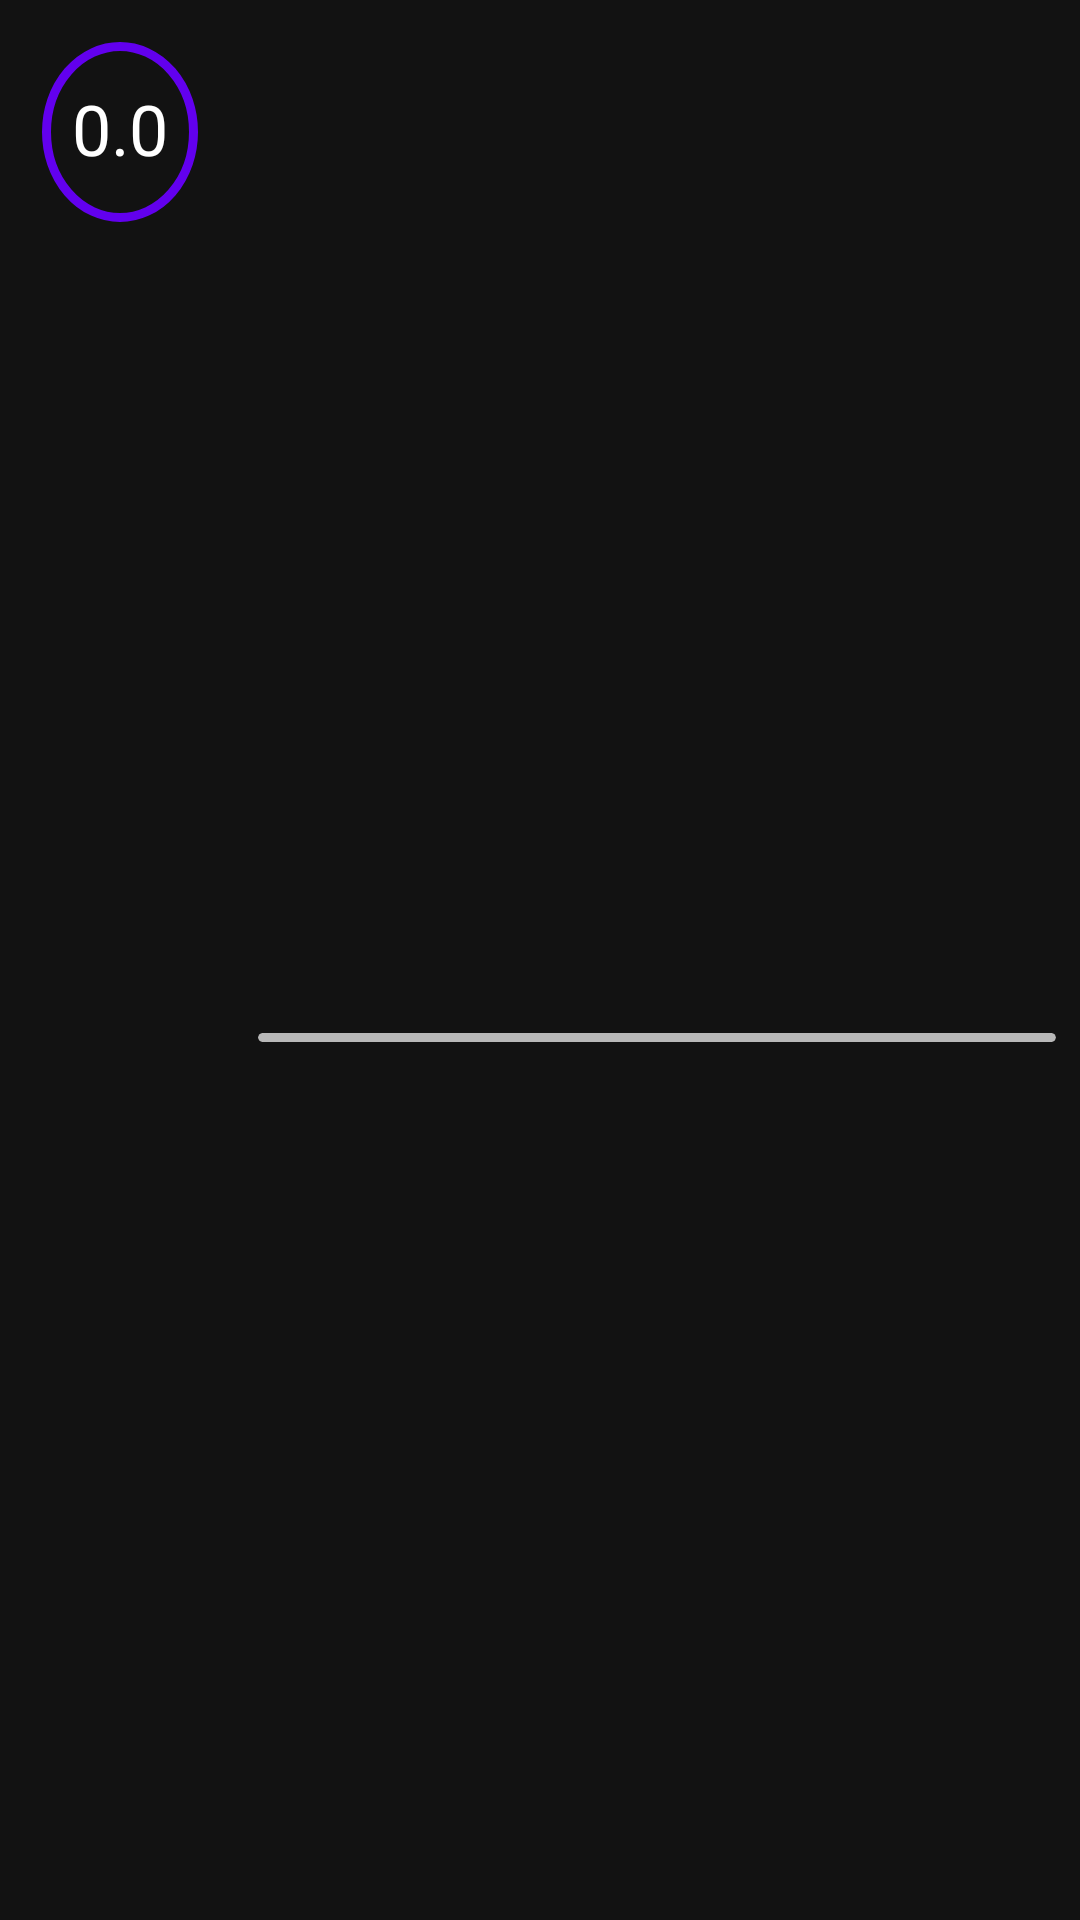

Point at icon controls on the screen. Image size 1080*1920, points as point (x, y).
circle: point (120, 132)
